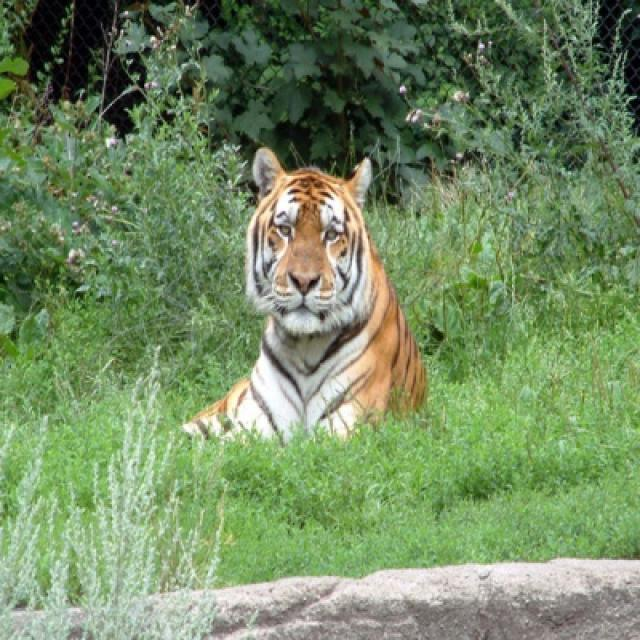Tiger: (184, 147, 426, 437)
